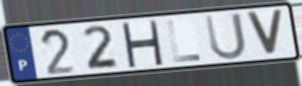2: (39, 27, 77, 77), (84, 23, 121, 72)
H: (119, 19, 165, 68)
L: (165, 19, 204, 64)
U: (203, 11, 249, 62)
V: (244, 9, 286, 58)
